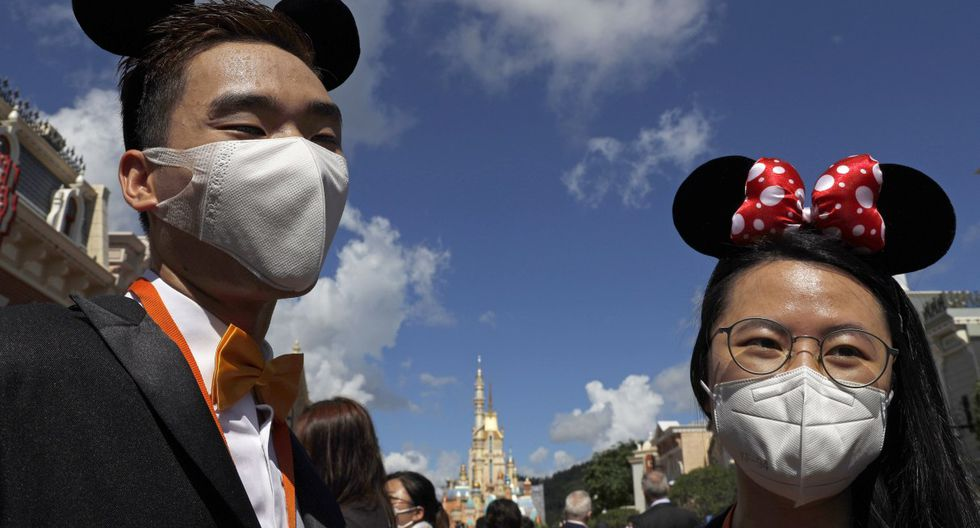with_mask: (191, 75, 353, 301), (715, 298, 890, 502)
